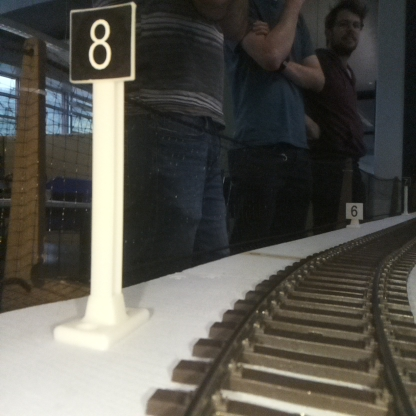black-info-8: (70, 5, 131, 344)
white-stop-6: (346, 203, 362, 226)
